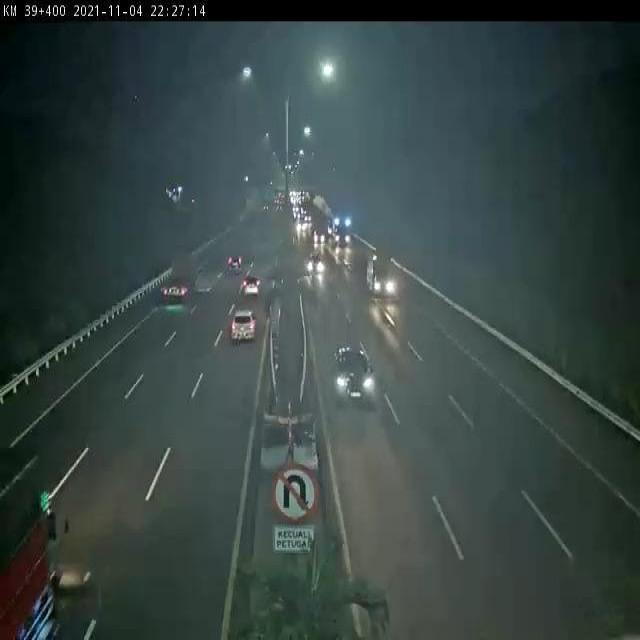car: (333, 344, 374, 400), (230, 307, 256, 341), (241, 275, 262, 296)
truck-m-: (161, 248, 198, 303)
